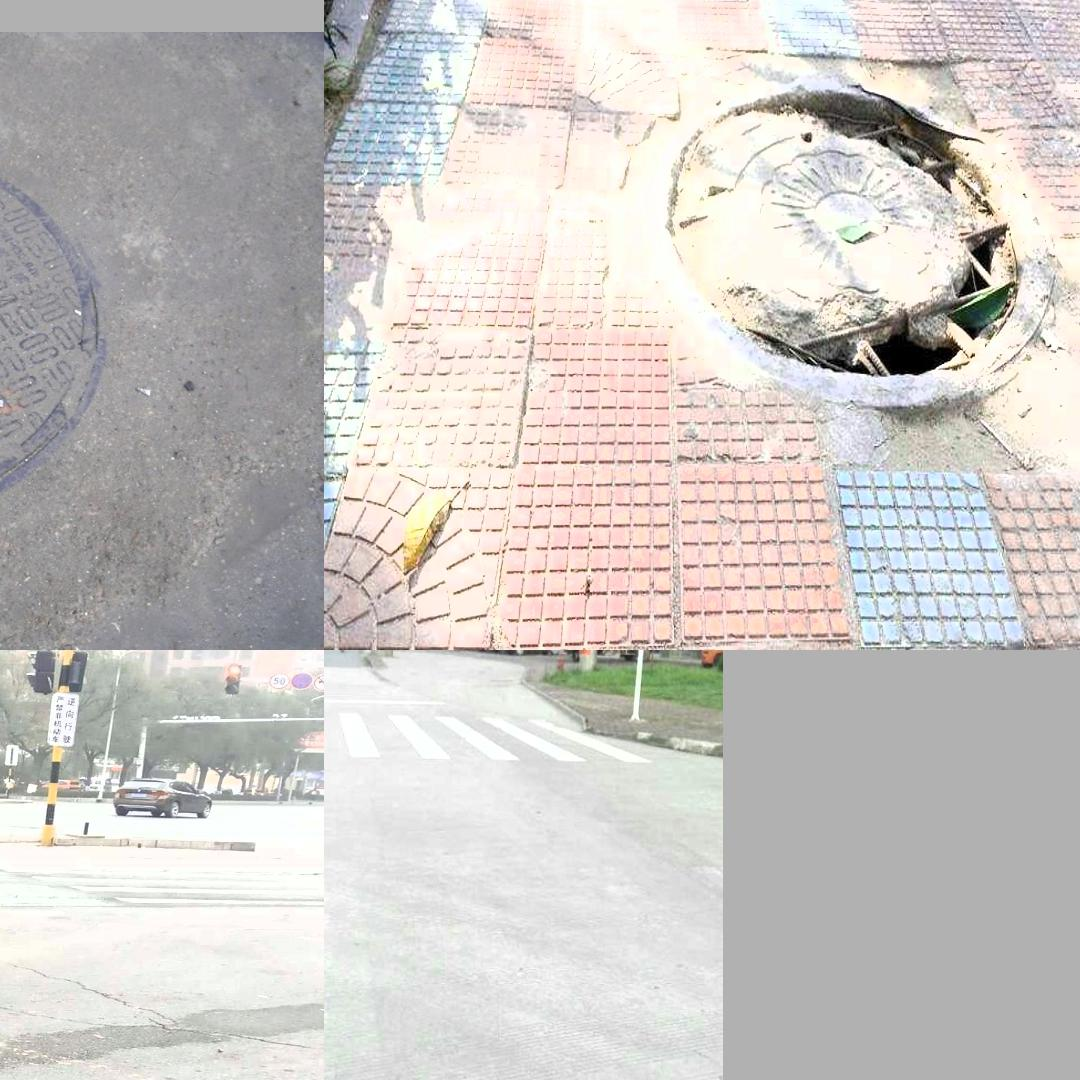broke: (641, 83, 1041, 386), (0, 133, 102, 530)
